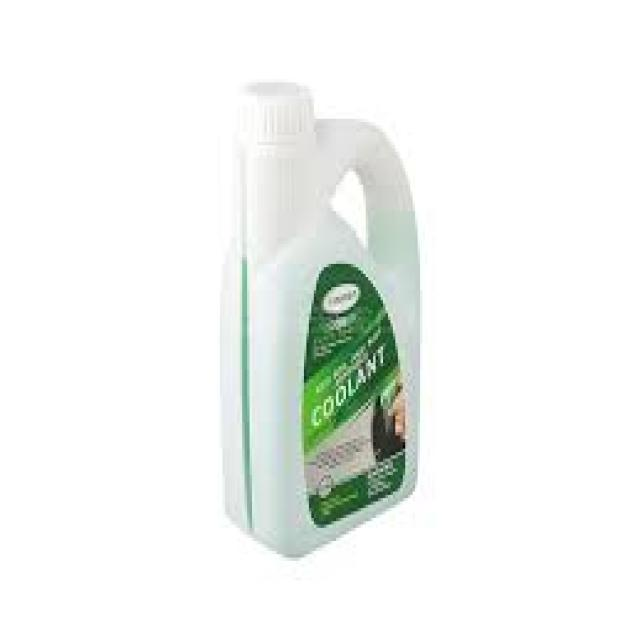coolant: (222, 73, 426, 567)
